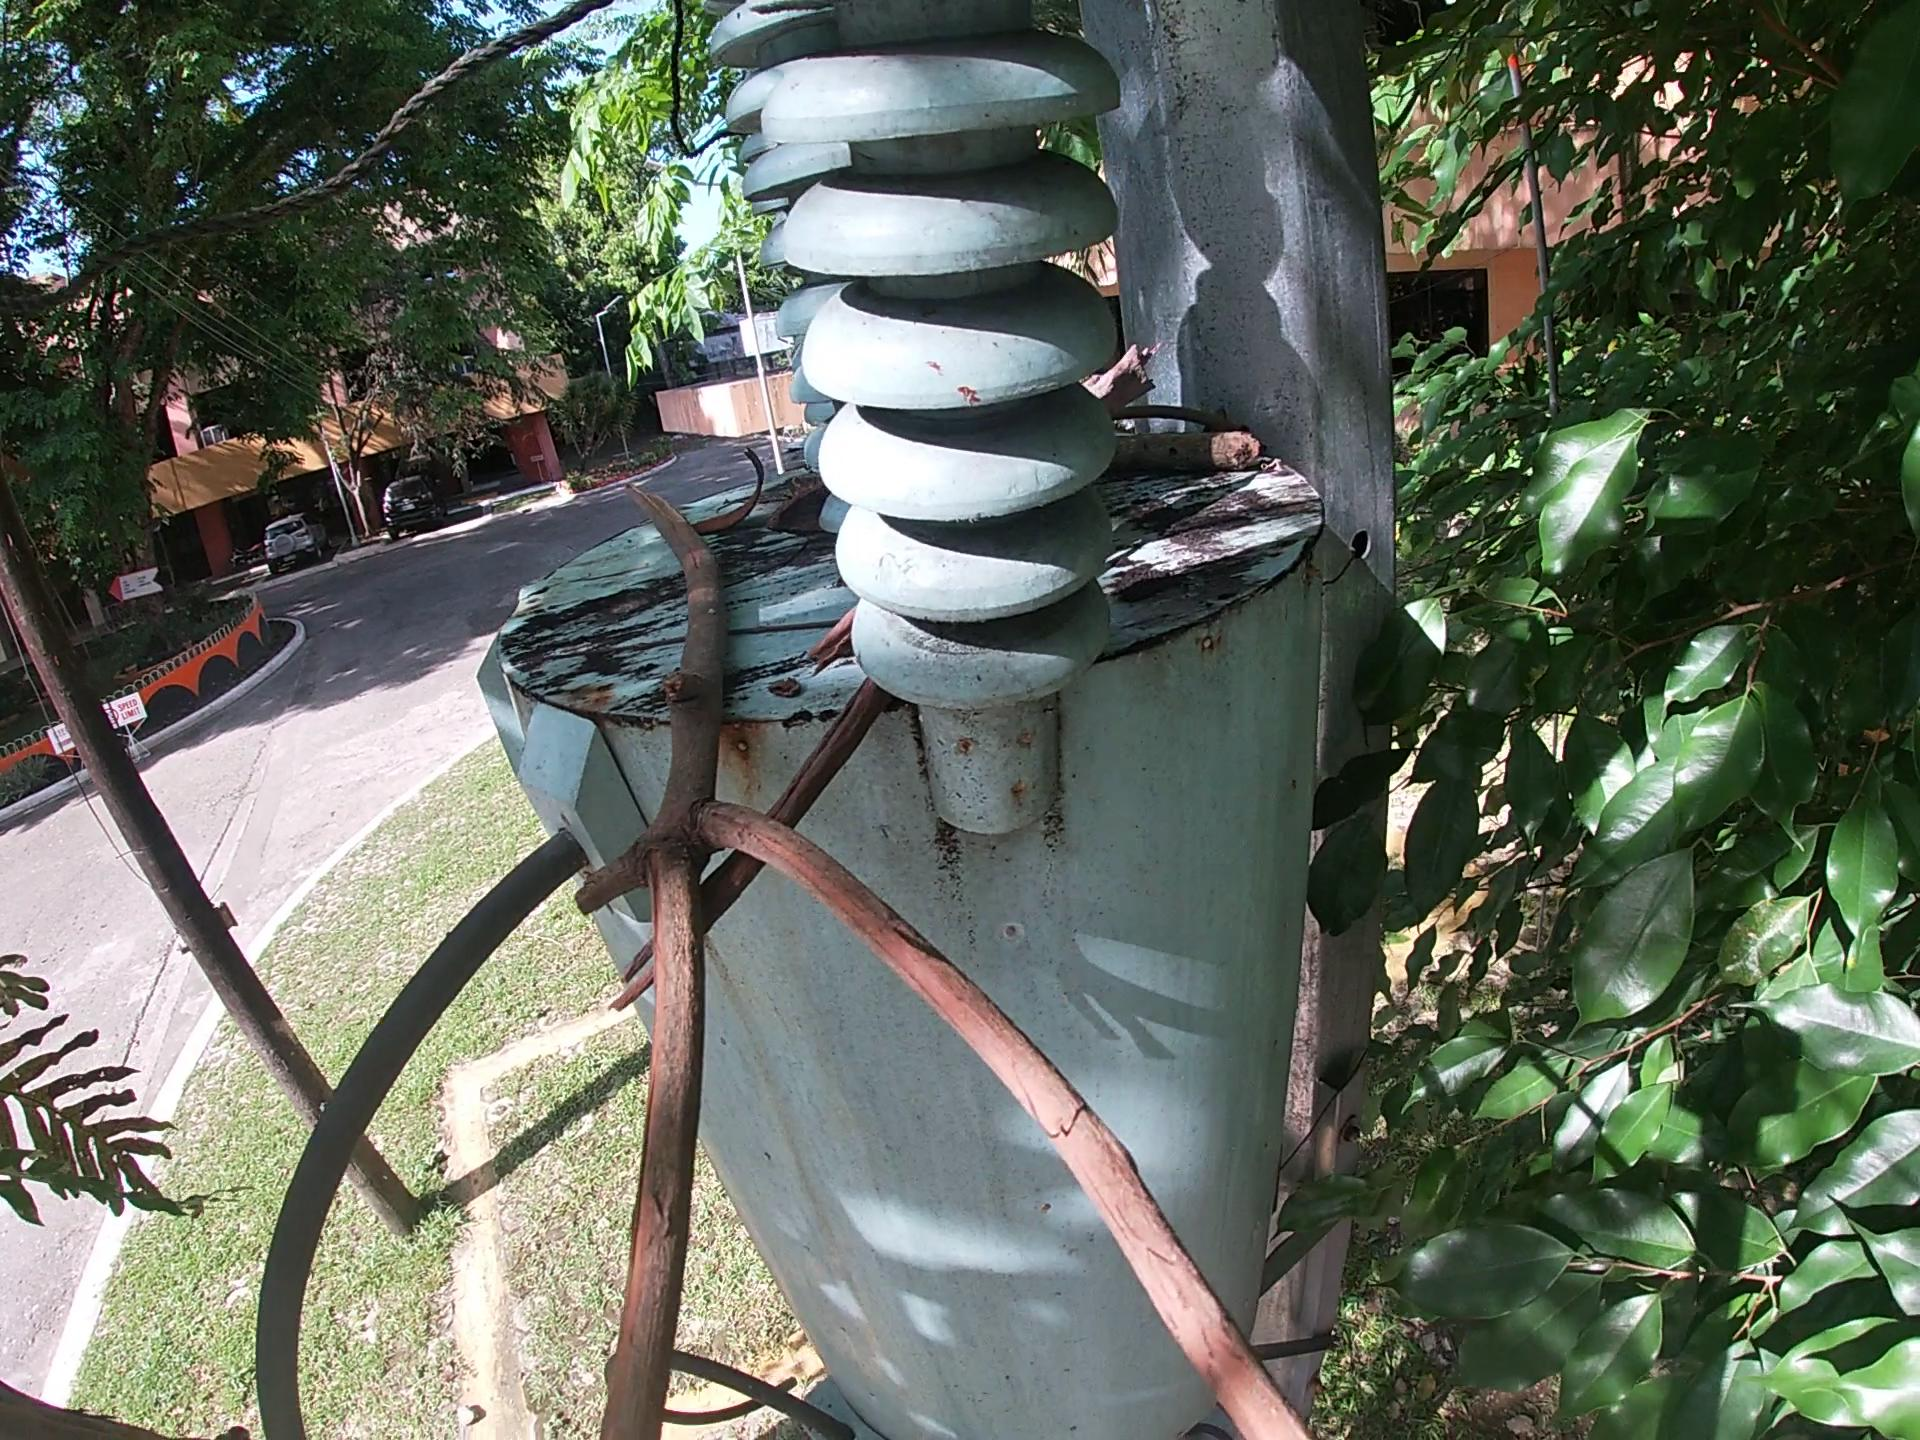mahogany fruit: (685, 436, 774, 525), (763, 492, 827, 543)
tree branch: (596, 476, 1395, 1434), (612, 688, 890, 982), (1101, 425, 1296, 479), (1090, 337, 1172, 402), (1110, 402, 1271, 434), (797, 604, 865, 675)
